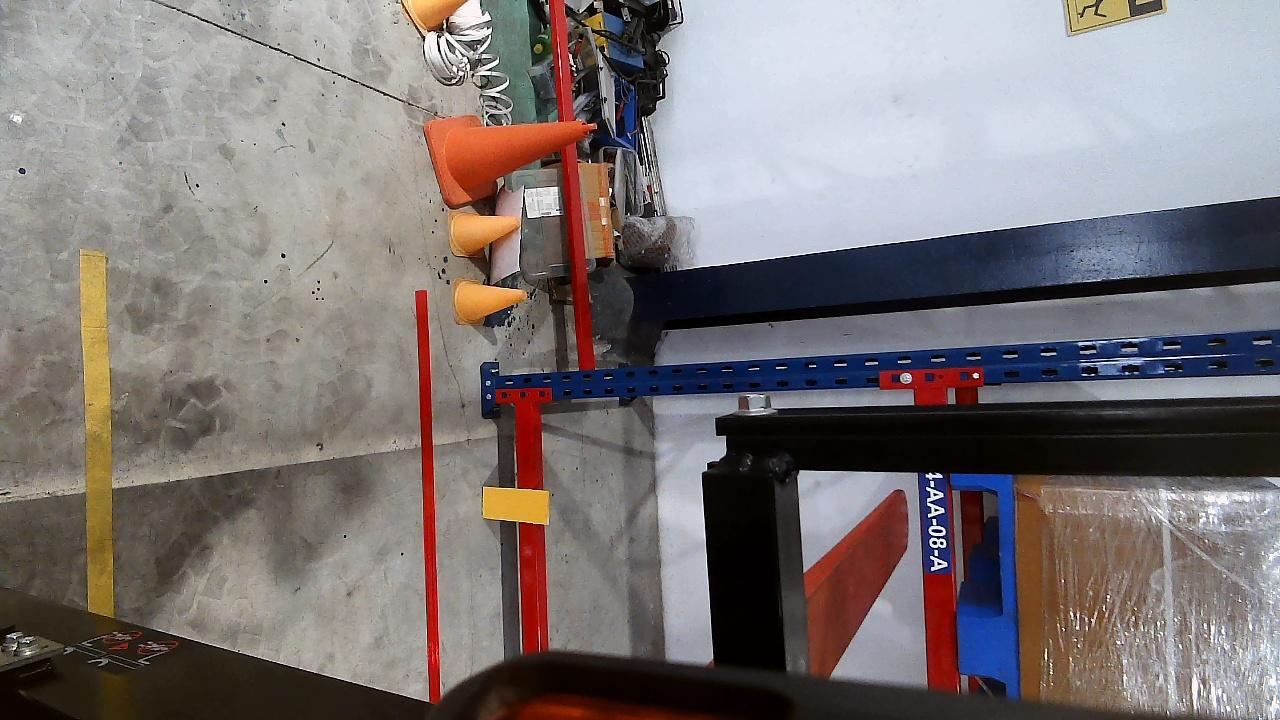h_rack: (911, 385, 960, 691), (512, 402, 545, 652)
orange_strip: (482, 487, 550, 523)
red_line: (414, 293, 445, 703)
small_pallet: (947, 478, 1024, 698)
yellow_line: (79, 250, 113, 615)
